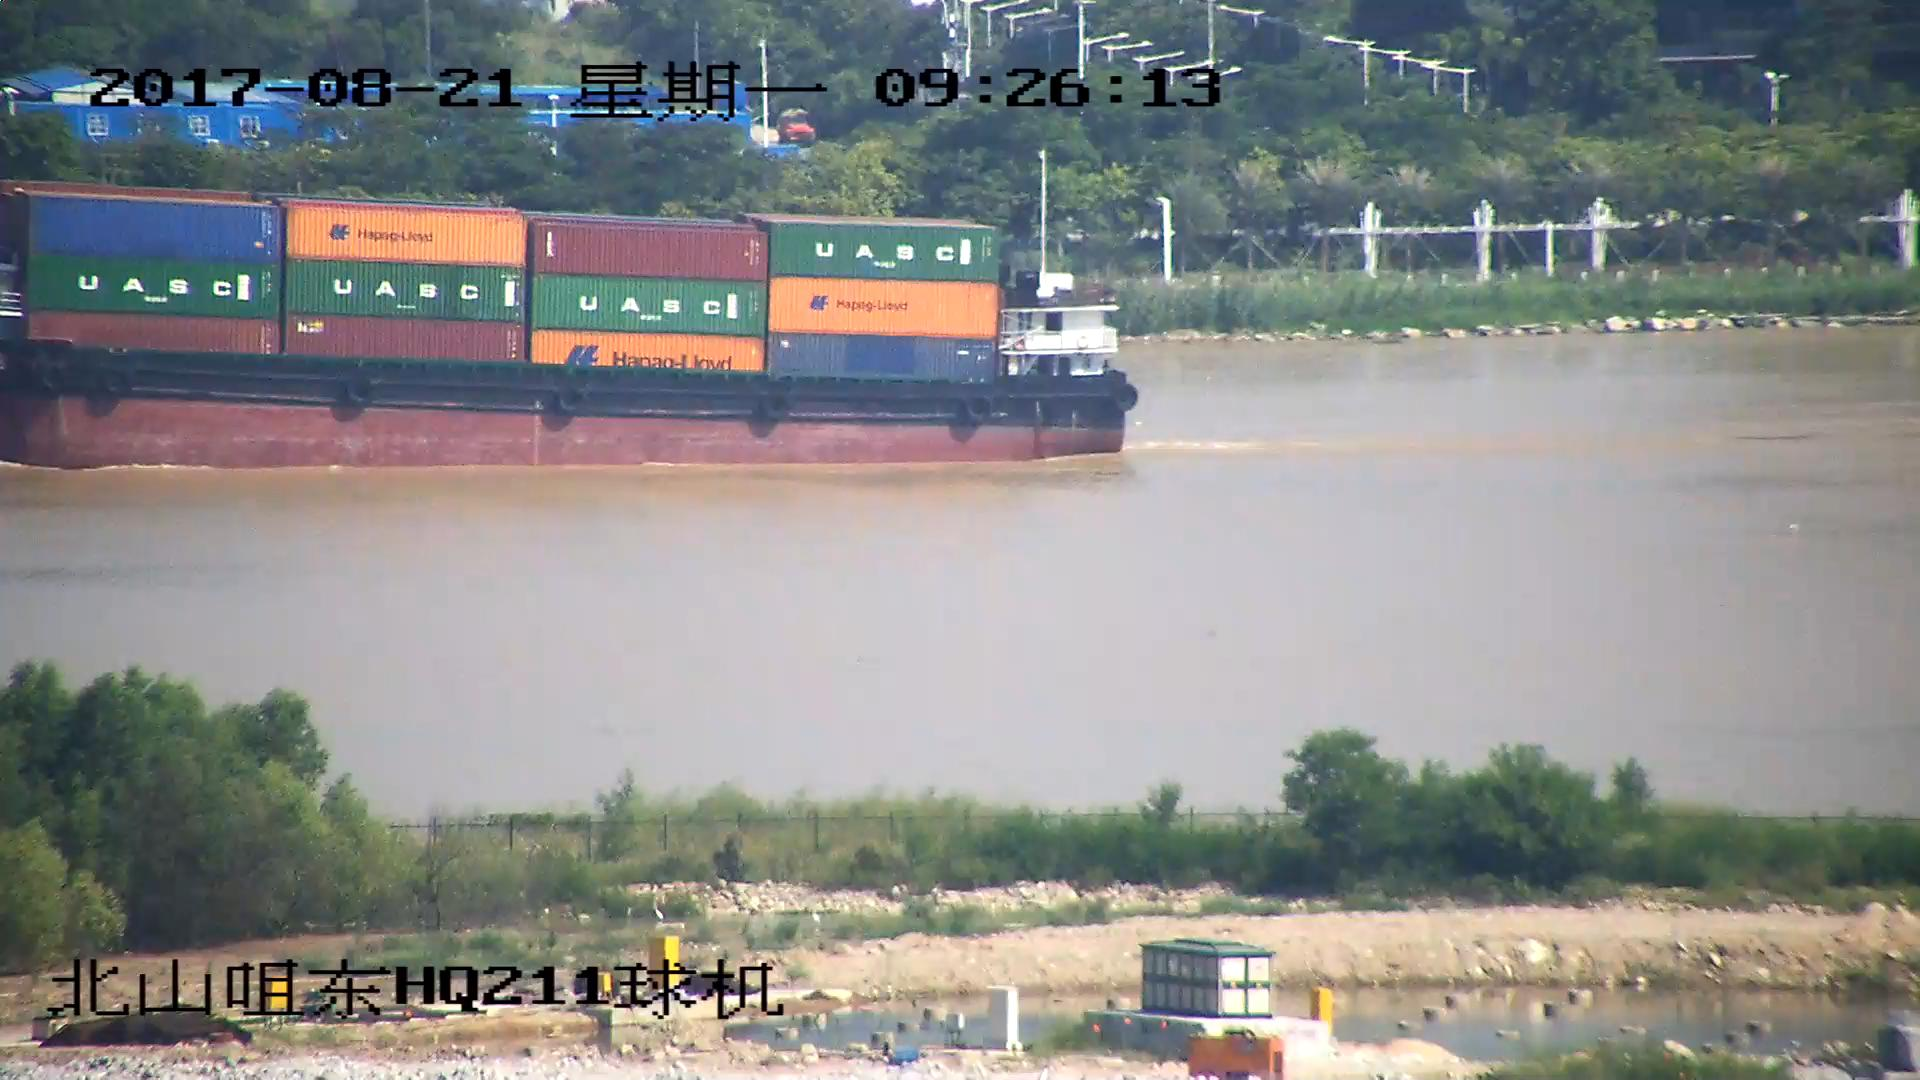container ship: (1, 154, 1139, 464)
